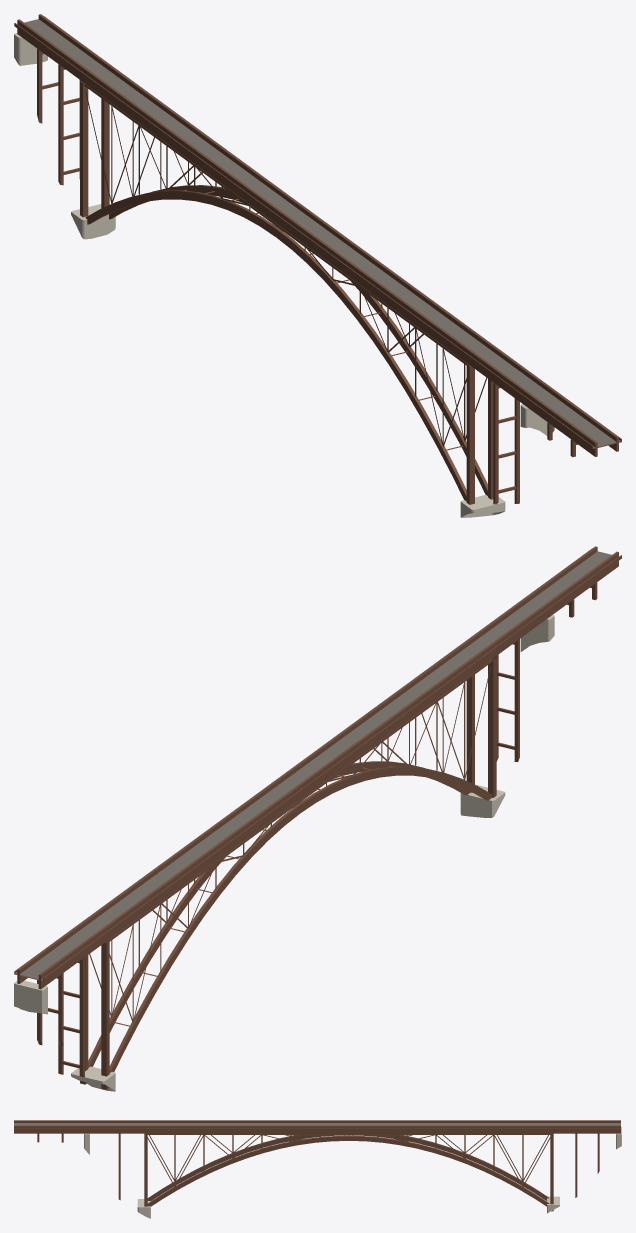
File: niagara-michigan-central-railway-bridge.glb
3 views of the same model, one above another, from view 1: azimuth 30°, elevation 25°; view 2: azimuth 150°, elevation 25°; view 3: azimuth 270°, elevation 25° (orthographic). The views are drawn at different scales.
Visible parts, largest first — view 1: Michigan Central Railway Bridge; view 2: Michigan Central Railway Bridge; view 3: Michigan Central Railway Bridge.
Boxes of the visible parts, <box> form: Michigan Central Railway Bridge: <box>14,14,621,517</box>; Michigan Central Railway Bridge: <box>14,546,621,1091</box>; Michigan Central Railway Bridge: <box>14,1120,621,1218</box>.
Size of the model in its own units: 10 by 49.79 by 300.
